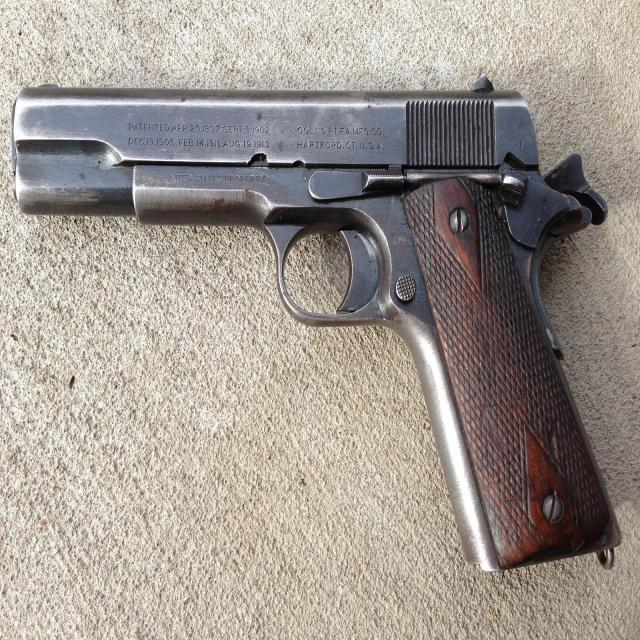Pistol: (8, 62, 640, 592)
